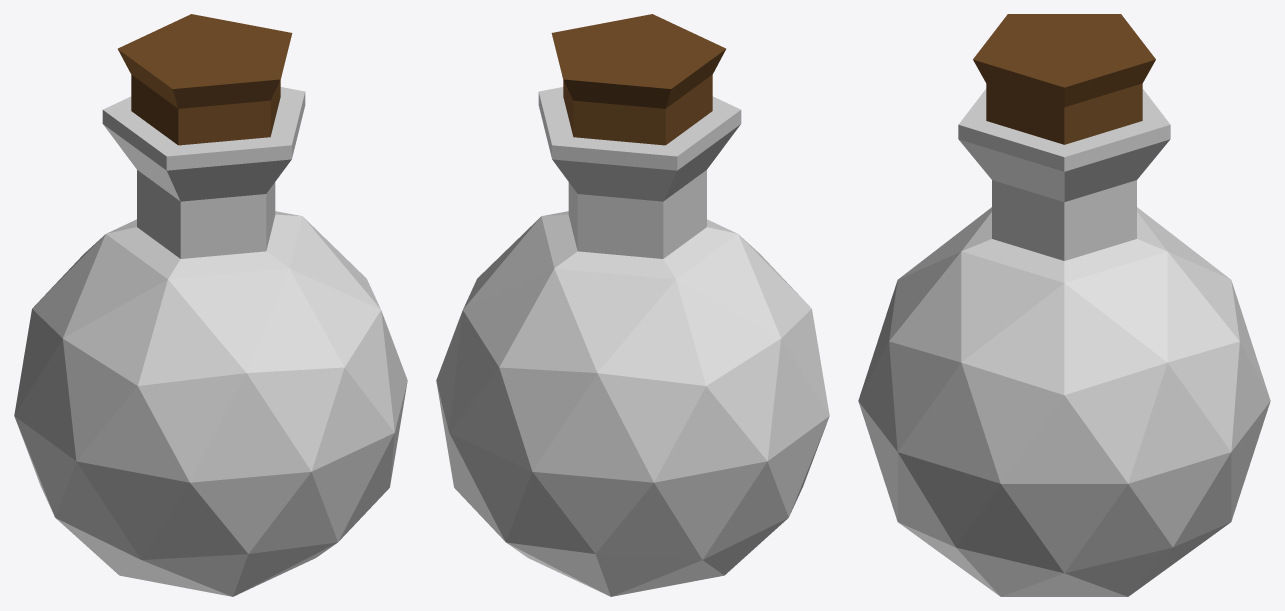
The model's file is PotionRed.fbx.
3 views of the same model, side by side, from view 1: azimuth 30°, elevation 25°; view 2: azimuth 150°, elevation 25°; view 3: azimuth 270°, elevation 25° (orthographic). The views are drawn at different scales.
Visible parts, largest first — view 1: PotionBottle, Cork; view 2: PotionBottle, Cork; view 3: PotionBottle, Cork.
Part boxes in pixels (x1,y1,x2,y2): PotionBottle: (14,87,407,596); Cork: (118,14,292,145); PotionBottle: (436,87,829,596); Cork: (551,14,725,145); PotionBottle: (858,89,1270,596); Cork: (973,14,1155,144).
Size of the model in its own units: 73.43 by 112 by 77.21.
